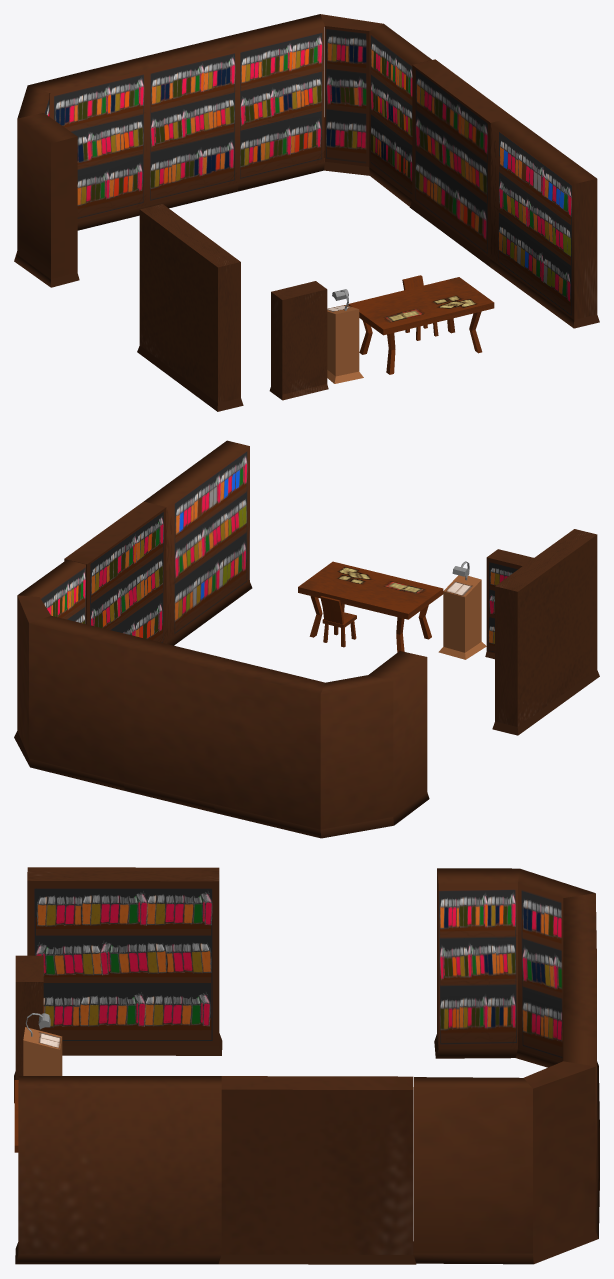
File: LibraryRoom furniture(2).fbx
3 renders of one model, top to bottom at view 1: azimuth 30°, elevation 25°; view 2: azimuth 150°, elevation 25°; view 3: azimuth 270°, elevation 25°, orthographic. The views are drawn at different scales.
Parts seen in each view (by area): view 1: Cube.052, Cube.051, Cube.046, Cube.043, Cube.050, Cube.049; view 2: Cube.052, Cube.051, Cube.046, Cube.050, Cube.049, Cube.043, Cube.047; view 3: Cube.051, Cube.052, Cube.046, Cube.043, Cube.049.
Boxes of the visible parts, left/top/right/bottom form: Cube.052: left=14, top=14, right=431, bottom=287; Cube.051: left=409, top=59, right=599, bottom=328; Cube.046: left=137, top=204, right=243, bottom=411; Cube.043: left=269, top=281, right=328, bottom=400; Cube.050: left=348, top=277, right=494, bottom=374; Cube.049: left=327, top=289, right=363, bottom=383; Cube.052: left=14, top=560, right=429, bottom=838; Cube.051: left=64, top=440, right=252, bottom=645; Cube.046: left=492, top=529, right=599, bottom=735; Cube.050: left=298, top=561, right=443, bottom=652; Cube.049: left=438, top=561, right=486, bottom=659; Cube.043: left=485, top=549, right=533, bottom=659; Cube.047: left=320, top=596, right=356, bottom=647; Cube.051: left=15, top=1076, right=416, bottom=1264; Cube.052: left=413, top=868, right=599, bottom=1264; Cube.046: left=27, top=867, right=222, bottom=1055; Cube.043: left=14, top=955, right=43, bottom=1103; Cube.049: left=23, top=1013, right=62, bottom=1075.
Size of the model in its own units: 772 by 285 by 851.
